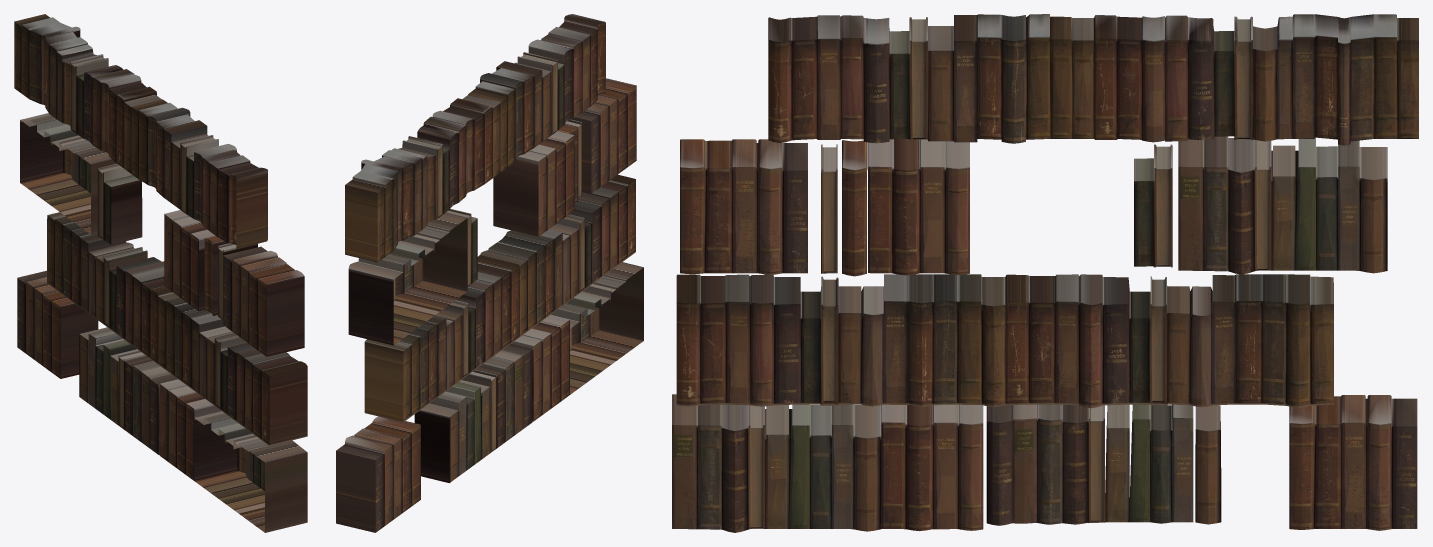
The model's file is Books_01.fbx.
3 views of the same model, side by side, from view 1: azimuth 30°, elevation 25°; view 2: azimuth 150°, elevation 25°; view 3: azimuth 270°, elevation 25° (orthographic). The views are drawn at different scales.
Visible parts, largest first — view 1: RowOfBooksTexture.015, RowOfBooksTexture.013, RowOfBooksTexture.011, RowOfBooksTexture.014, RowOfBooksTexture.018, RowOfBooksTexture.016, RowOfBooksTexture.012, RowOfBooksTexture.010, RowOfBooksTexture.020, RowOfBooksTexture.019, RowOfBooksTexture.017, RowOfBooksTexture.009; view 2: RowOfBooksTexture.015, RowOfBooksTexture.013, RowOfBooksTexture.016, RowOfBooksTexture.018, RowOfBooksTexture.012, RowOfBooksTexture.011, RowOfBooksTexture.020, RowOfBooksTexture.014, RowOfBooksTexture.010, RowOfBooksTexture.019, RowOfBooksTexture.017, RowOfBooksTexture.009; view 3: RowOfBooksTexture.013, RowOfBooksTexture.015, RowOfBooksTexture.018, RowOfBooksTexture.016, RowOfBooksTexture.011, RowOfBooksTexture.014, RowOfBooksTexture.012, RowOfBooksTexture.020, RowOfBooksTexture.010, RowOfBooksTexture.019, RowOfBooksTexture.017, RowOfBooksTexture.009.
Part boxes in pixels (x1,y1,x2,y2): RowOfBooksTexture.015: (14, 14, 267, 248); RowOfBooksTexture.013: (47, 212, 307, 445); RowOfBooksTexture.011: (194, 411, 307, 532); RowOfBooksTexture.014: (223, 246, 304, 356); RowOfBooksTexture.018: (79, 327, 177, 454); RowOfBooksTexture.016: (20, 113, 116, 234); RowOfBooksTexture.012: (17, 270, 98, 378); RowOfBooksTexture.010: (159, 379, 236, 480); RowOfBooksTexture.020: (164, 210, 215, 311); RowOfBooksTexture.019: (97, 163, 142, 244); RowOfBooksTexture.017: (204, 236, 228, 315); RowOfBooksTexture.009: (218, 243, 257, 320); RowOfBooksTexture.015: (345, 14, 605, 262); RowOfBooksTexture.013: (364, 174, 635, 422); RowOfBooksTexture.016: (348, 212, 467, 345); RowOfBooksTexture.018: (414, 345, 532, 483); RowOfBooksTexture.012: (336, 416, 420, 532); RowOfBooksTexture.011: (550, 262, 643, 394); RowOfBooksTexture.020: (493, 131, 574, 236); RowOfBooksTexture.014: (571, 78, 636, 193); RowOfBooksTexture.010: (510, 315, 569, 421); RowOfBooksTexture.019: (446, 208, 477, 286); RowOfBooksTexture.017: (558, 124, 578, 202); RowOfBooksTexture.009: (565, 119, 581, 198); RowOfBooksTexture.013: (676, 274, 1333, 408); RowOfBooksTexture.015: (768, 14, 1418, 145); RowOfBooksTexture.018: (986, 404, 1221, 525); RowOfBooksTexture.016: (1178, 136, 1387, 274); RowOfBooksTexture.011: (672, 394, 881, 532); RowOfBooksTexture.014: (680, 139, 807, 275); RowOfBooksTexture.012: (1289, 395, 1417, 530); RowOfBooksTexture.020: (868, 139, 969, 275); RowOfBooksTexture.010: (881, 404, 983, 531); RowOfBooksTexture.019: (1134, 144, 1172, 267); RowOfBooksTexture.017: (842, 140, 867, 276); RowOfBooksTexture.009: (821, 144, 837, 273).
Size of the model in its own units: 18.43 by 113 by 158.
